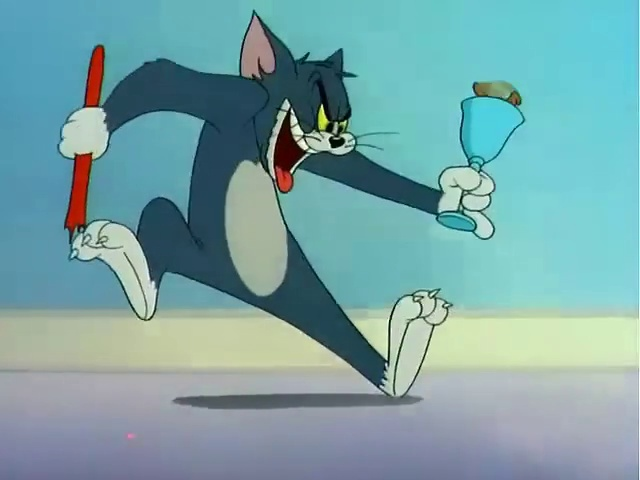tom: (75, 14, 469, 409)
